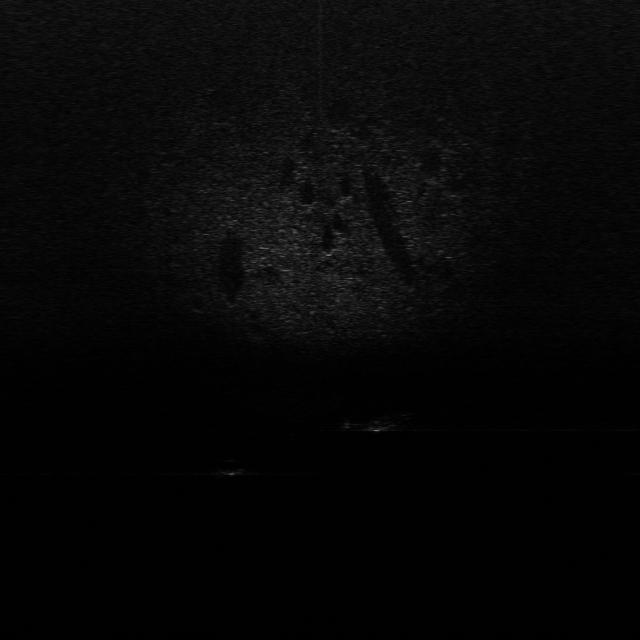ball: (332, 411, 421, 436)
human body: (336, 411, 416, 435)
